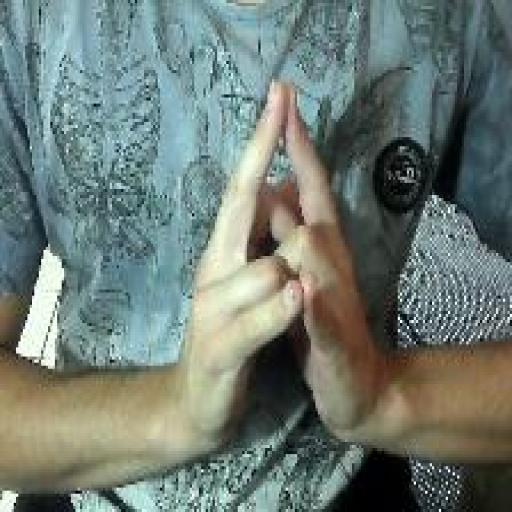Tori -bird-: (177, 73, 385, 460)
